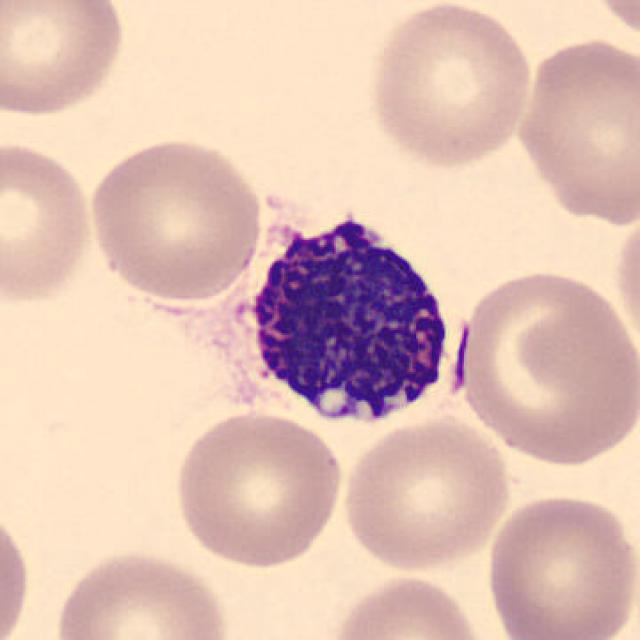Basophil: (204, 196, 464, 439)
RBC: (448, 263, 638, 469), (81, 132, 266, 307), (363, 0, 537, 171), (169, 406, 348, 571), (336, 412, 516, 574), (510, 32, 638, 229), (480, 488, 638, 640), (48, 545, 235, 640), (0, 134, 98, 309), (0, 0, 130, 122), (323, 569, 492, 640), (0, 499, 34, 640), (610, 203, 640, 358), (579, 0, 640, 47)
